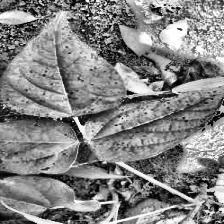ALS: (0, 11, 135, 120), (77, 80, 224, 166), (0, 121, 75, 172)
